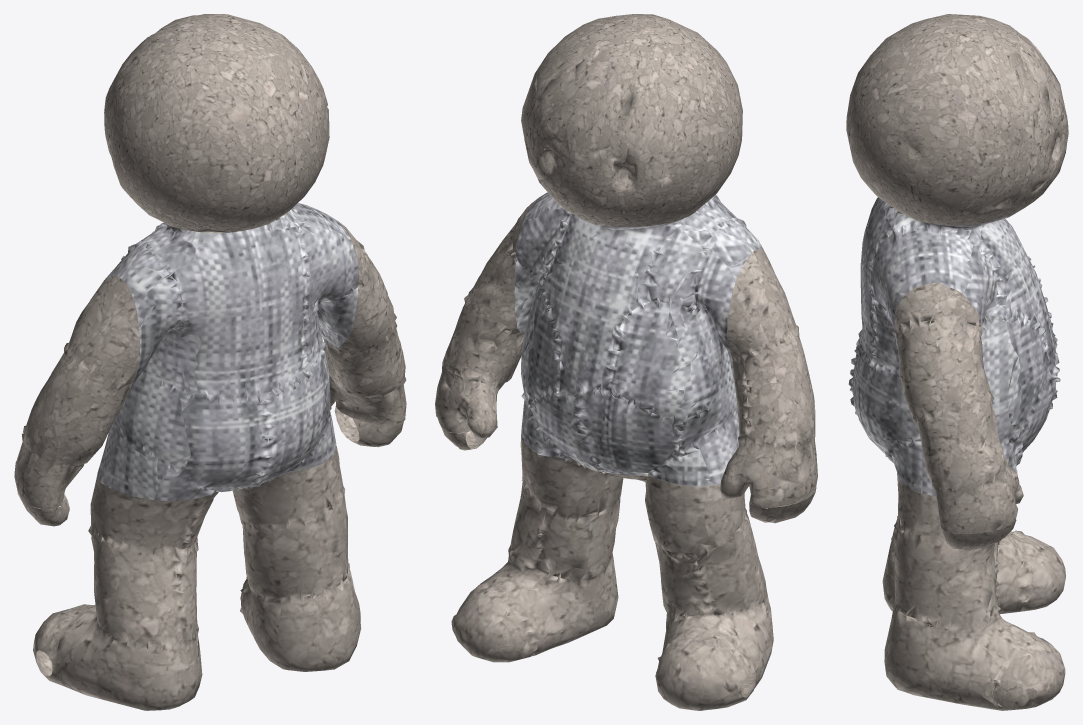
The model's file is 23-blob-texture-bodies--patchwork_plush_figure_3d_model.glb.
The picture shows the model from 3 angles, left to right: view 1: azimuth 30°, elevation 25°; view 2: azimuth 150°, elevation 25°; view 3: azimuth 270°, elevation 25°; orthographic projection. The views are drawn at different scales.
Visible parts, largest first — view 1: body_mesh, feet_mesh, head_mesh, arms_mesh; view 2: body_mesh, feet_mesh, head_mesh, arms_mesh; view 3: head_mesh, body_mesh, feet_mesh, arms_mesh.
Part boxes in pixels (x1,y1,x2,y2): body_mesh: (97,203,358,501); feet_mesh: (33,446,361,710); head_mesh: (104,14,329,233); arms_mesh: (14,222,406,526); body_mesh: (514,192,766,486); feet_mesh: (451,434,773,710); head_mesh: (521,14,742,226); arms_mesh: (435,198,817,623); head_mesh: (846,14,1068,225); body_mesh: (848,197,1060,495); feet_mesh: (882,473,1065,710); arms_mesh: (894,224,1036,708).
Bounding box in the file's own units: 1.83 × 3 × 0.9651.
Materials: 4 (4 with a texture image).
